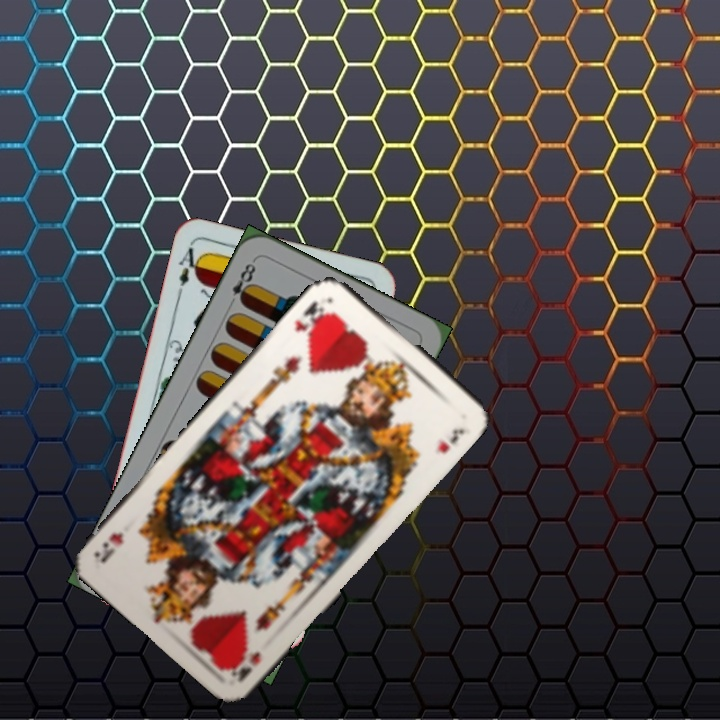E8: (224, 255, 259, 310)
EA: (173, 243, 205, 300)
HK: (290, 296, 330, 337), (227, 647, 263, 684)
